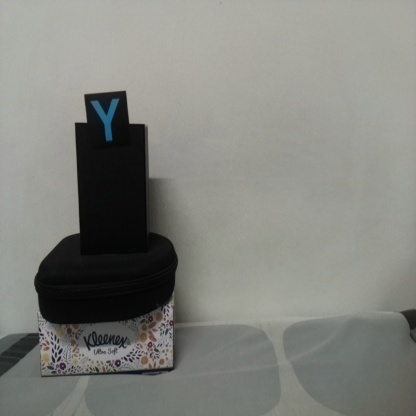id_14: (85, 92, 129, 149)
